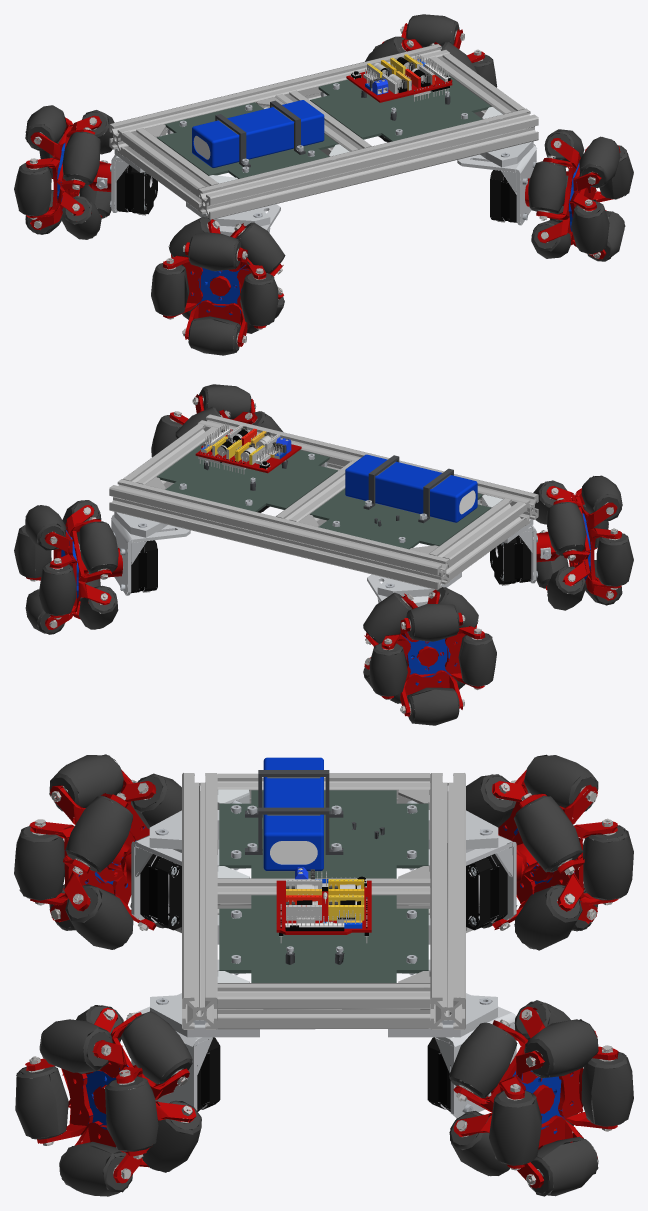
File: open_omni.glb
3 renders of one model, top to bottom at view 1: azimuth 30°, elevation 25°; view 2: azimuth 150°, elevation 25°; view 3: azimuth 270°, elevation 25°, orthographic. The views are drawn at different scales.
Visible parts, largest first — view 1: base_link, wheel_rb, wheel_rf, wheel_lb, battery, controller_shield, wheel_lf; view 2: base_link, wheel_lb, wheel_lf, wheel_rb, battery, controller_shield, wheel_rf; view 3: base_link, wheel_rf, wheel_lf, wheel_lb, wheel_rb, battery, controller_shield.
Part boxes in pixels (x1,y1,x2,y2): base_link: (109,44,538,236); wheel_rb: (151,216,285,355); wheel_rf: (525,129,633,261); wheel_lb: (14,105,114,239); battery: (192,100,324,167); controller_shield: (346,54,452,102); wheel_lf: (365,14,497,142); base_link: (109,414,538,606); wheel_lb: (363,587,496,725); wheel_lf: (14,500,122,634); wheel_rb: (533,475,633,610); battery: (345,454,477,522); controller_shield: (195,423,301,474); wheel_rf: (151,384,283,512); base_link: (131,770,516,1118); wheel_rf: (15,1005,201,1196); wheel_lf: (449,1000,633,1196); wheel_lb: (466,754,633,950); wheel_rb: (14,754,181,949); battery: (263,757,323,870); controller_shield: (276,867,371,943).
Size of the model in its own units: 0.4361 by 0.1377 by 0.3497.
